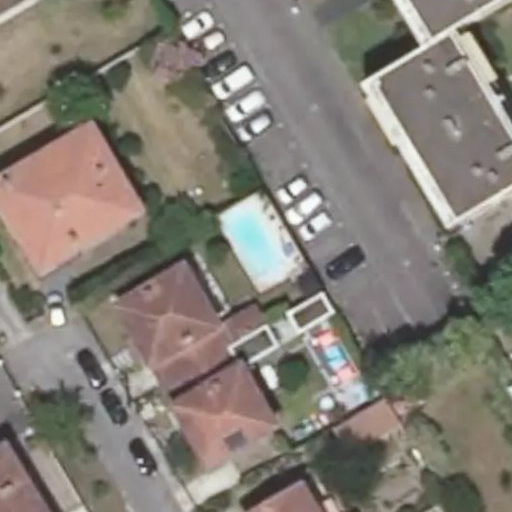pool: (221, 218, 296, 268)
